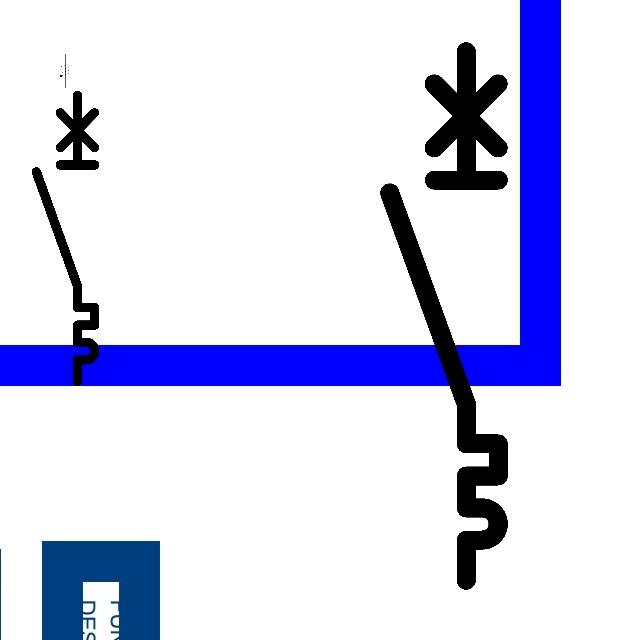interruptor_termomagnetico: (376, 38, 512, 594), (29, 88, 102, 389)
